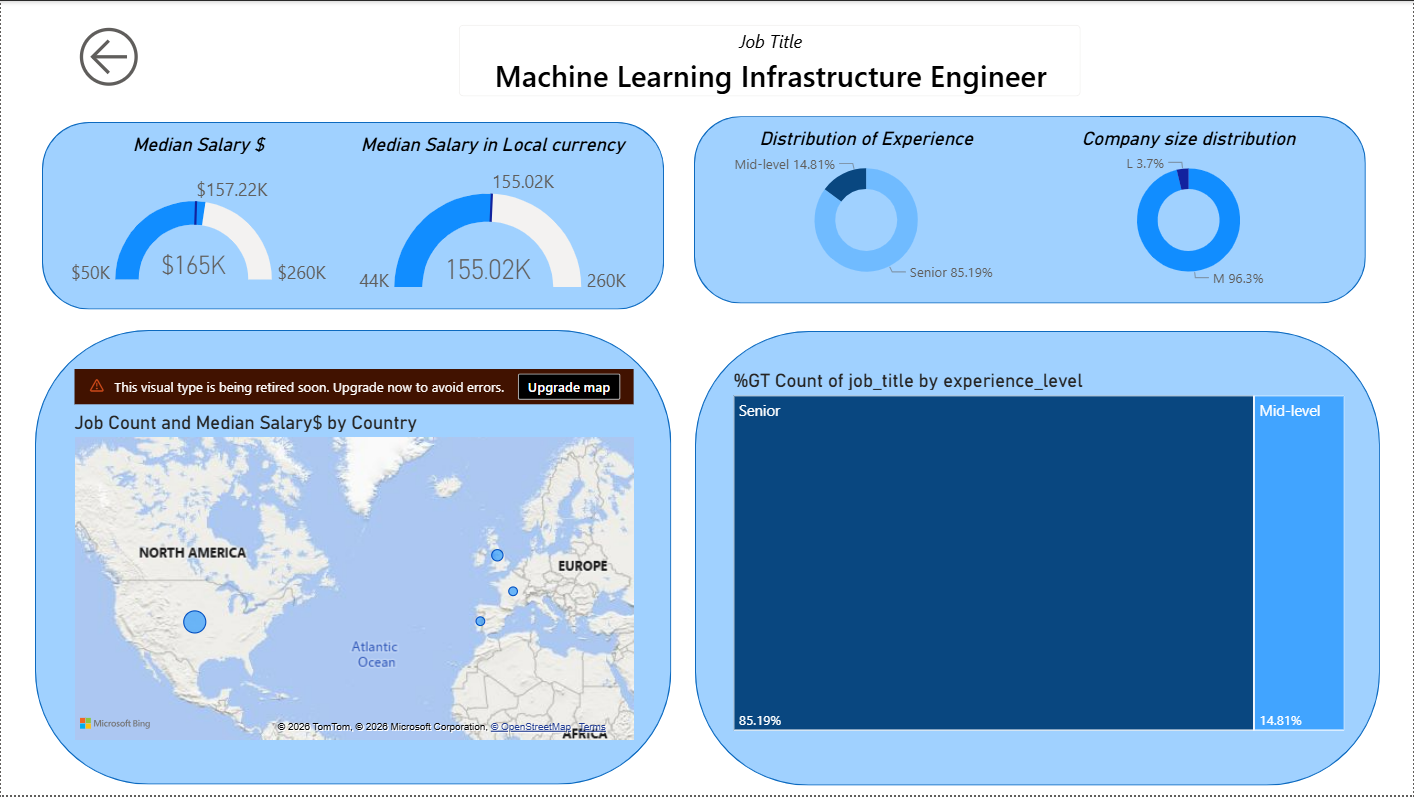

The page's visual inventory and layout, read from the dashboard file:
{"tool":"powerbi","page":{"name":"Job Title Drill Through","canvas":[1280,720],"ordinal":1},"visuals":[{"type":"group","id":"g1","title":"background","box":[31.2,104.4,1219.7,607.2],"z":0},{"type":"shape","box":[37.7,109.8,564.1,170.1],"z":0,"group":"g1"},{"type":"cardVisual","fields":{"Data":["Min(jobs_in_data.job_title)"]},"box":[398.3,4.3,535,100.1],"z":1000},{"type":"shape","box":[628.7,104.4,609.3,170.1],"z":1000,"group":"g1"},{"type":"actionButton","box":[64.6,17.2,99,66.7],"z":2000},{"type":"shape","box":[31.2,298.2,577,412.3],"z":2000,"group":"g1"},{"type":"gauge","title":"Median Salary $","fields":{"Y":["Median(jobs_in_data.salary_in_usd)"],"MinValue":["Min(jobs_in_data.salary_in_usd)"],"MaxValue":["Max(jobs_in_data.salary_in_usd)"],"TargetValue":["Avg(jobs_in_data.salary_in_usd)1"]},"box":[53.8,119.5,250.8,149.6],"z":3000},{"type":"shape","box":[629.8,299.3,621.2,412.3],"z":3000,"group":"g1"},{"type":"gauge","title":"Median Salary in Local currency","fields":{"Y":["Avg(jobs_in_data.salary)"],"MinValue":["Min(jobs_in_data.salary)"],"MaxValue":["Max(jobs_in_data.salary)"],"TargetValue":["Avg(jobs_in_data.salary)"]},"box":[304.7,119.5,282.1,149.6],"z":4000},{"type":"donutChart","title":"Distribution of Experience","fields":{"Category":["jobs_in_data.experience_level"],"Y":["CountNonNull(jobs_in_data.experience_level)"]},"box":[645.9,114.1,277.7,149.6],"z":5000},{"type":"donutChart","title":"Company size distribution","fields":{"Y":["CountNonNull(jobs_in_data.experience_level)"],"Category":["jobs_in_data.company_size"]},"box":[940.9,114.1,271.3,149.6],"z":6000},{"type":"map","fields":{"Category":["jobs_in_data.company_location"],"Size":["CountNonNull(jobs_in_data.job_title)"]},"box":[61.4,333.7,516.7,341.3],"z":7000},{"type":"treemap","fields":{"Group":["jobs_in_data.experience_level"],"Values":["CountNonNull(jobs_in_data.job_title)"]},"box":[658.8,333.7,564.1,332.6],"z":8000}]}

Visuals, with their boxes in screenshot pixels (x1, y1, x2, y2), scaled from the page's 1280x720 canvas onto the 1414x798 screenshot:
"background" group: 34,116,1382,789
shape: 42,122,665,310
cardVisual - Min(jobs_in_data.job_title): 440,5,1031,116
shape: 695,116,1368,304
actionButton: 71,19,181,93
shape: 34,331,672,787
"Median Salary $" gauge: 59,132,336,298
shape: 696,332,1382,789
"Median Salary in Local currency" gauge: 337,132,648,298
"Distribution of Experience" donutChart: 714,126,1020,292
"Company size distribution" donutChart: 1039,126,1339,292
map - jobs_in_data.company_location x CountNonNull(jobs_in_data.job_title): 68,370,639,748
treemap - jobs_in_data.experience_level x CountNonNull(jobs_in_data.job_title): 728,370,1351,738
